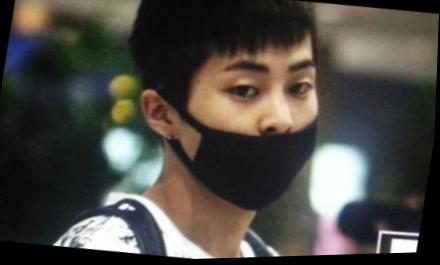WRONG: (170, 45, 328, 203)
